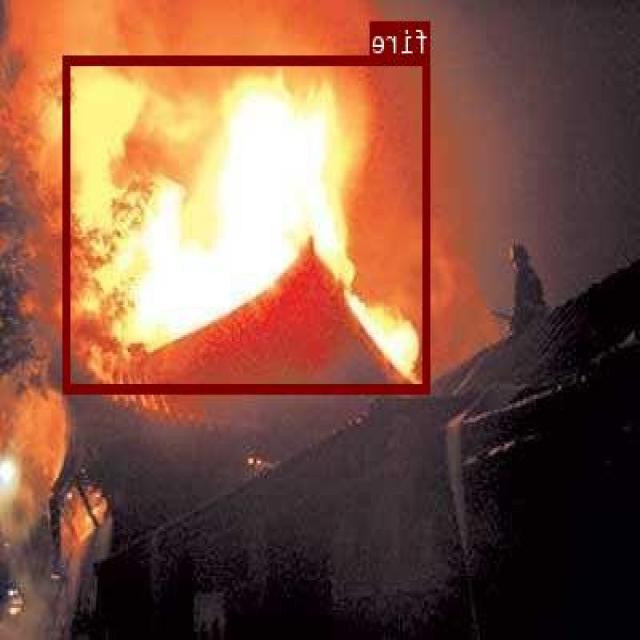fire: (64, 54, 432, 392)
